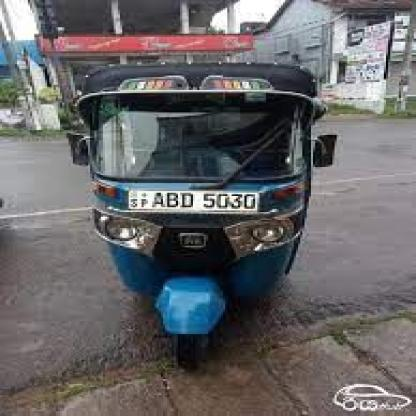number plate: (126, 187, 259, 215)
three wheeler front: (60, 55, 337, 373)
